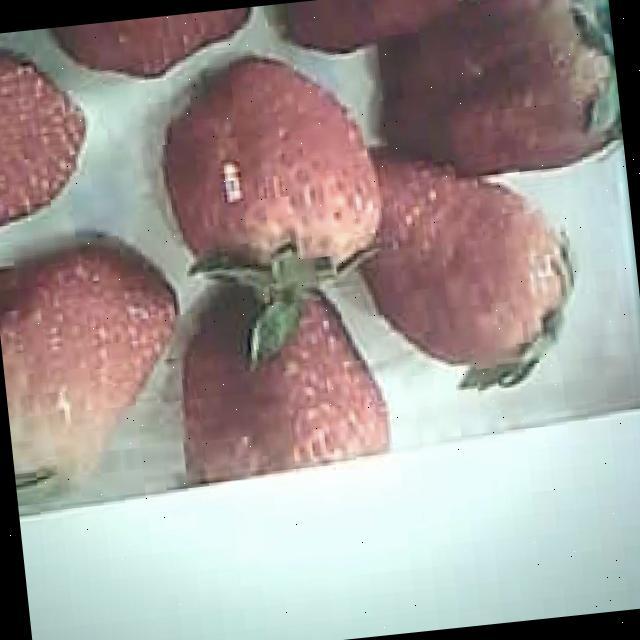strawberry: (159, 50, 383, 286), (366, 132, 576, 376), (0, 242, 193, 491), (166, 279, 392, 488)
